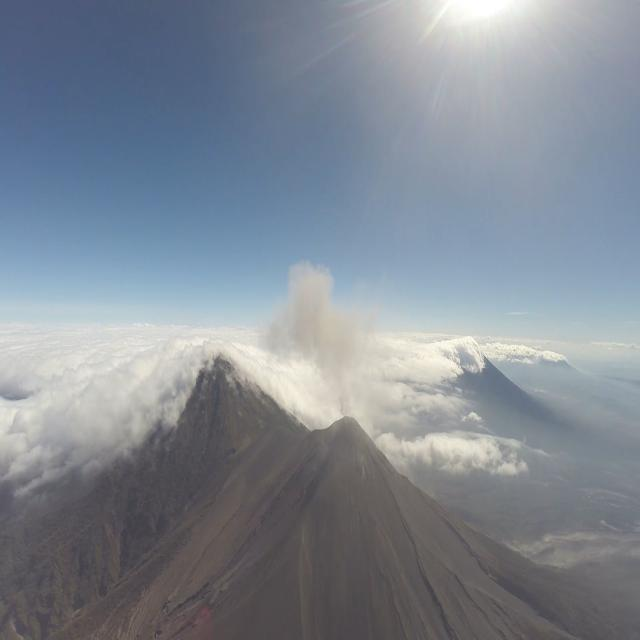Plume: (272, 259, 376, 403)
Summit: (311, 410, 390, 478)
